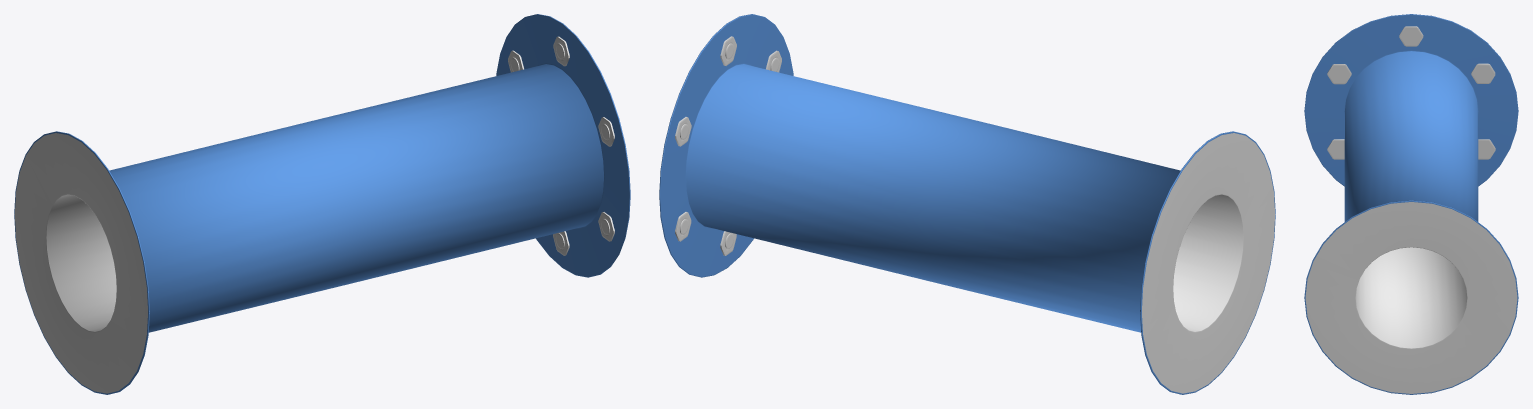
File: pipe.fbx
3 views of the same model, side by side, from view 1: azimuth 30°, elevation 25°; view 2: azimuth 150°, elevation 25°; view 3: azimuth 270°, elevation 25° (orthographic). The views are drawn at different scales.
Visible parts, largest first — view 1: Flanged pipe; view 2: Flanged pipe; view 3: Flanged pipe.
Part boxes in pixels (x1,y1,x2,y2): Flanged pipe: (14,14,630,394); Flanged pipe: (659,14,1275,394); Flanged pipe: (1304,14,1518,394).
Bounding box in the file's own units: 134 × 64.82 × 64.82.
